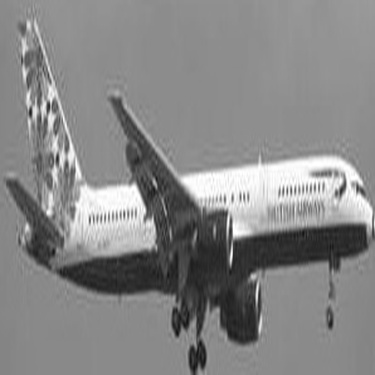airplane: (1, 12, 368, 371)
